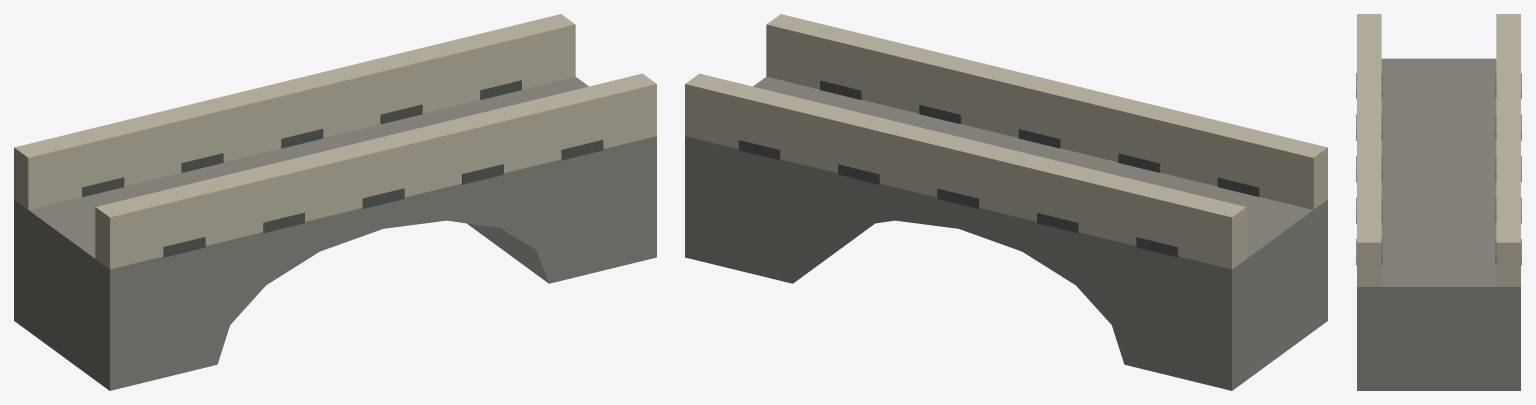
Rendered from bridge_small_stone.glb.
3 views of the same model, side by side, from view 1: azimuth 30°, elevation 25°; view 2: azimuth 150°, elevation 25°; view 3: azimuth 270°, elevation 25° (orthographic). The views are drawn at different scales.
Parts seen in each view (by area): view 1: bridge_small_stone; view 2: bridge_small_stone; view 3: bridge_small_stone.
Part boxes in pixels (bbox=[...]): bridge_small_stone: bbox=[14, 14, 656, 390]; bridge_small_stone: bbox=[685, 14, 1327, 390]; bridge_small_stone: bbox=[1356, 14, 1521, 390].
Size of what is drawn, in the model's own units: 6.6 by 2 by 2.02.
